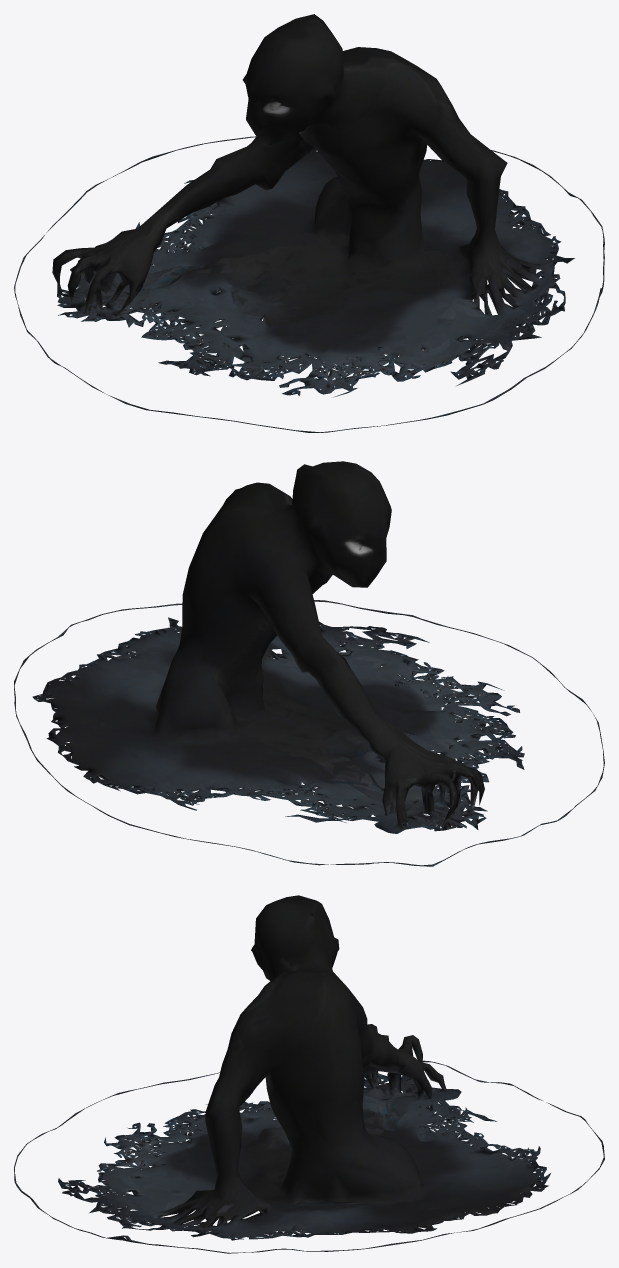
The model's file is cauchemar.glb.
3 renders of one model, top to bottom at view 1: azimuth 30°, elevation 25°; view 2: azimuth 150°, elevation 25°; view 3: azimuth 270°, elevation 25°, orthographic. The views are drawn at different scales.
Size of the model in its own units: 1.87 by 1.02 by 1.96.
1 material, 1 textured.
